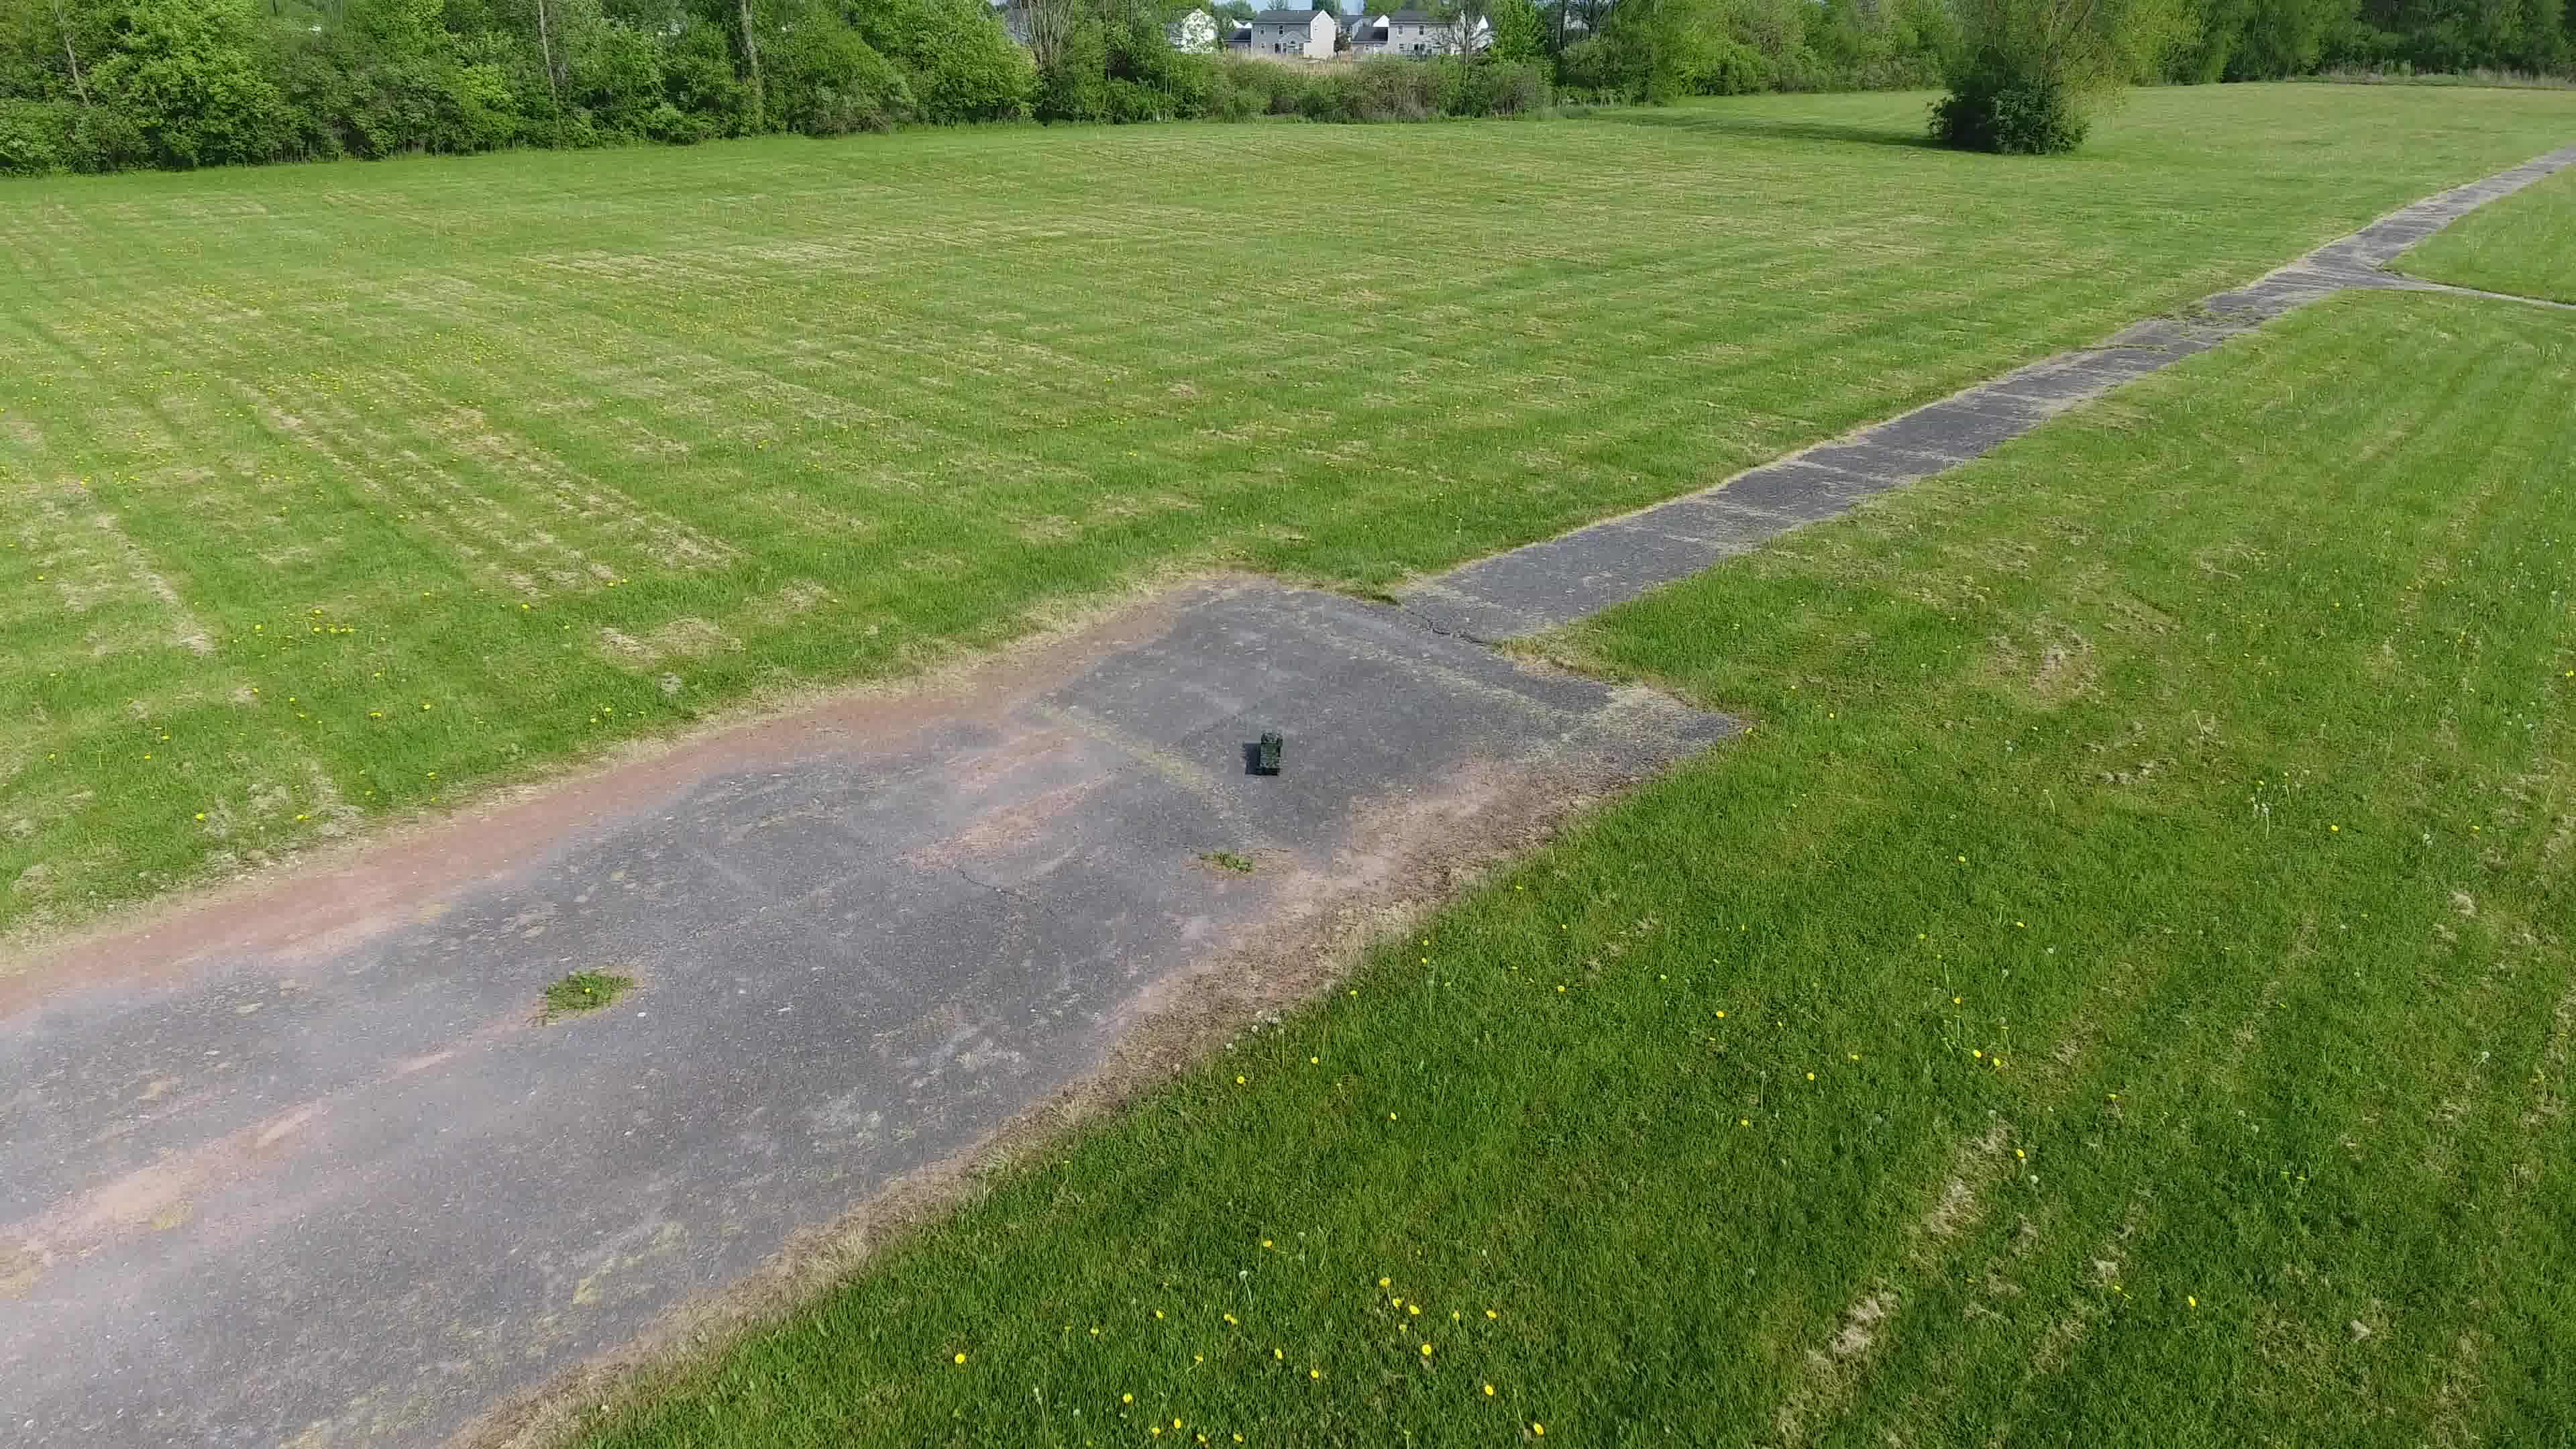transporter9: (1256, 729, 1286, 777)
